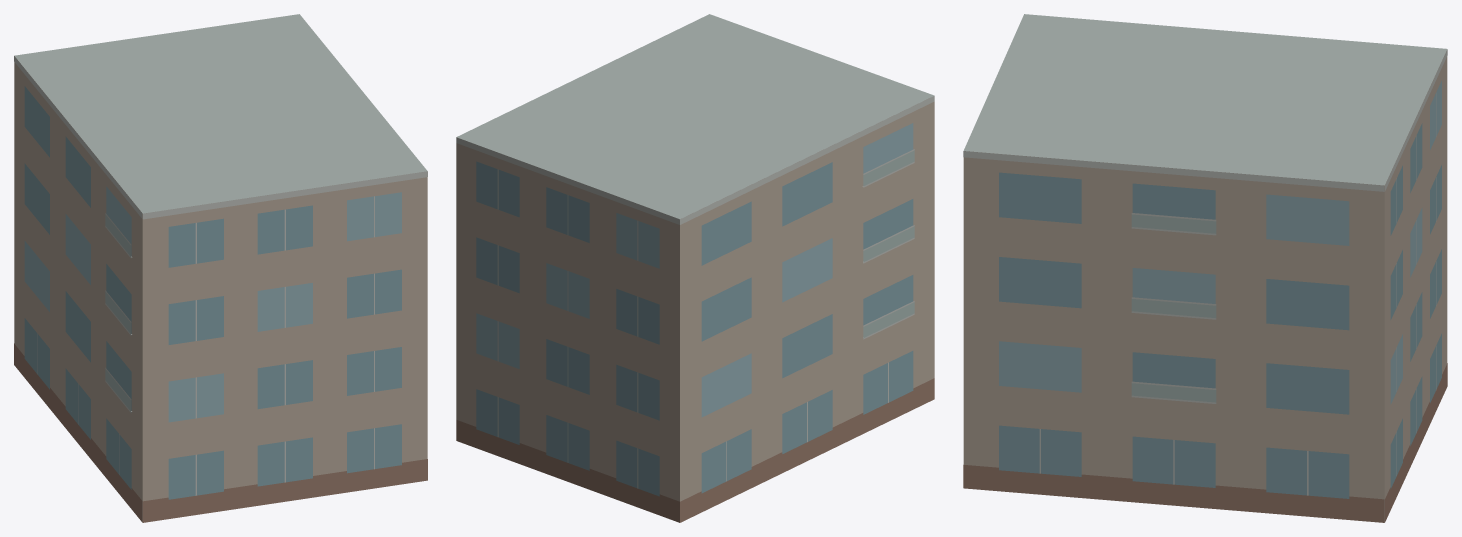
Rendered from survey-upis-32663572.glb.
3 renders of one model, left to right at view 1: azimuth 30°, elevation 25°; view 2: azimuth 150°, elevation 25°; view 3: azimuth 270°, elevation 25°, orthographic. The views are drawn at different scales.
Parts seen in each view (by area): view 1: survey-upis-32663572.tmp; view 2: survey-upis-32663572.tmp; view 3: survey-upis-32663572.tmp.
Part boxes in pixels (<box>): survey-upis-32663572.tmp: <box>14,14,427,522</box>; survey-upis-32663572.tmp: <box>456,14,934,522</box>; survey-upis-32663572.tmp: <box>963,14,1447,522</box>.
Size of the model in its own units: 13.96 by 12.8 by 16.65.
